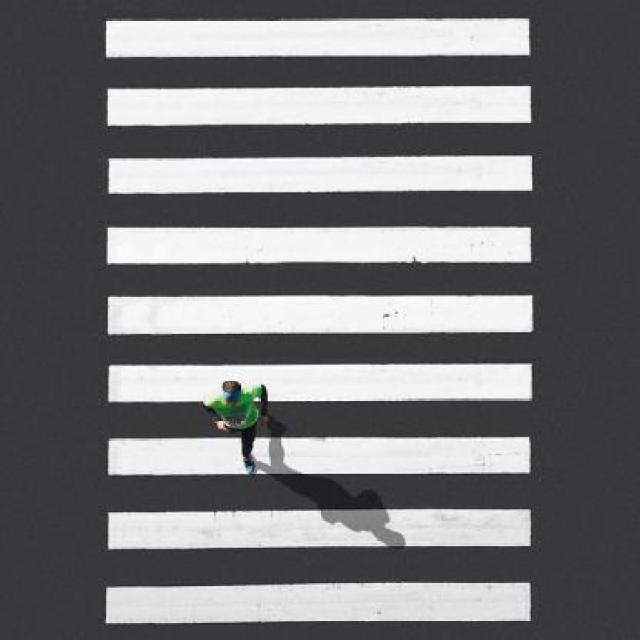crosswalk: (103, 15, 534, 627)
